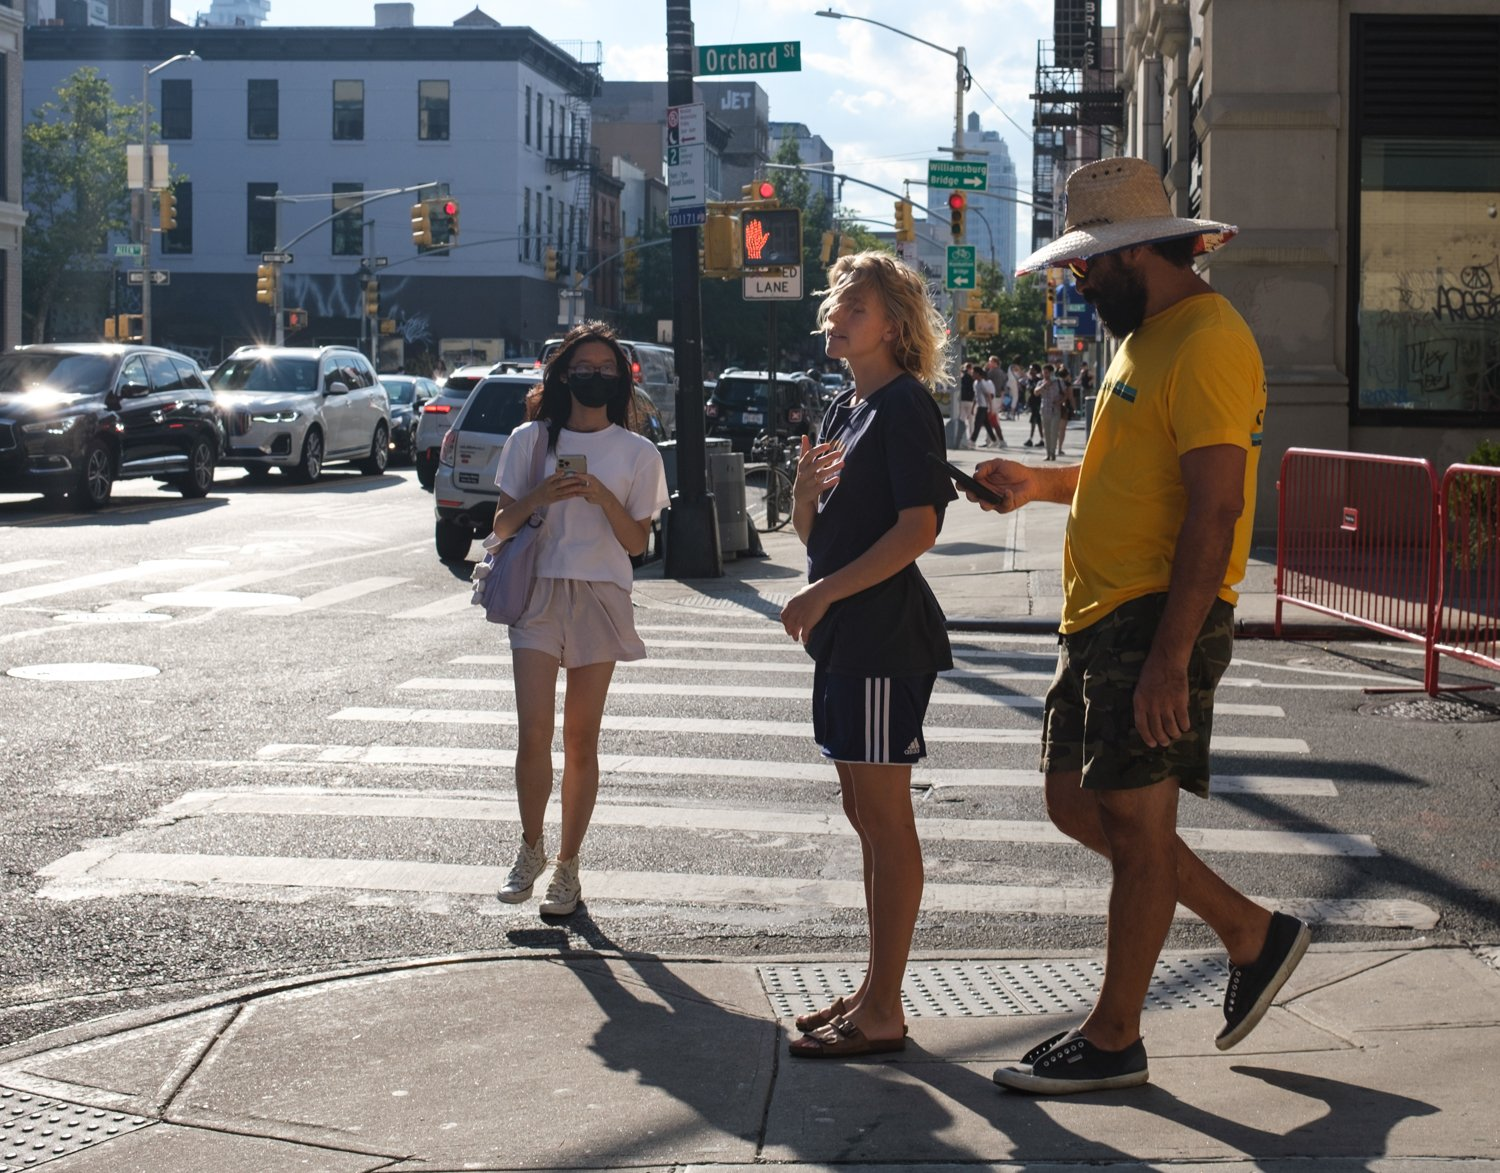car: (1, 335, 214, 525), (218, 342, 390, 480), (706, 361, 829, 477)
person: (1012, 153, 1318, 1106), (806, 255, 940, 1050), (503, 317, 659, 922), (967, 363, 1006, 453), (1035, 366, 1068, 460)
